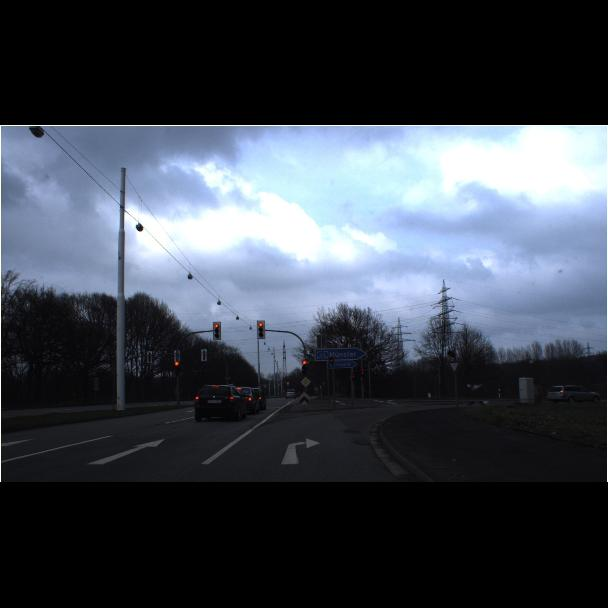give way: (300, 361, 461, 388)
